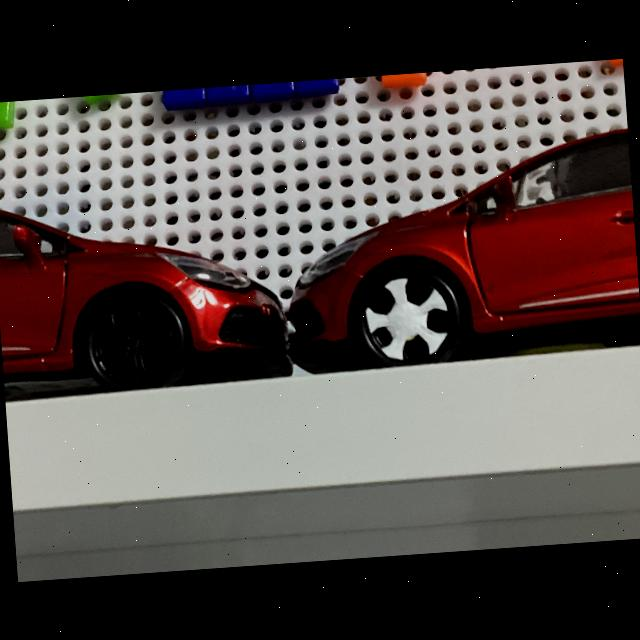Dogru_Jant: (90, 301, 174, 385)
Yanlis_Jant: (362, 274, 452, 364)
